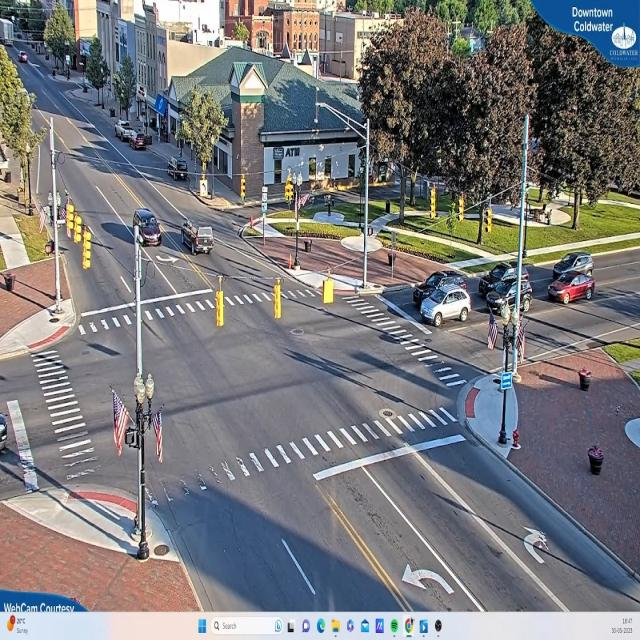car: (419, 289, 473, 327), (410, 270, 470, 304), (479, 258, 529, 298), (486, 282, 534, 316), (180, 214, 216, 255), (550, 272, 596, 304), (550, 250, 597, 279), (134, 207, 164, 248), (130, 135, 150, 150), (19, 52, 29, 64)
